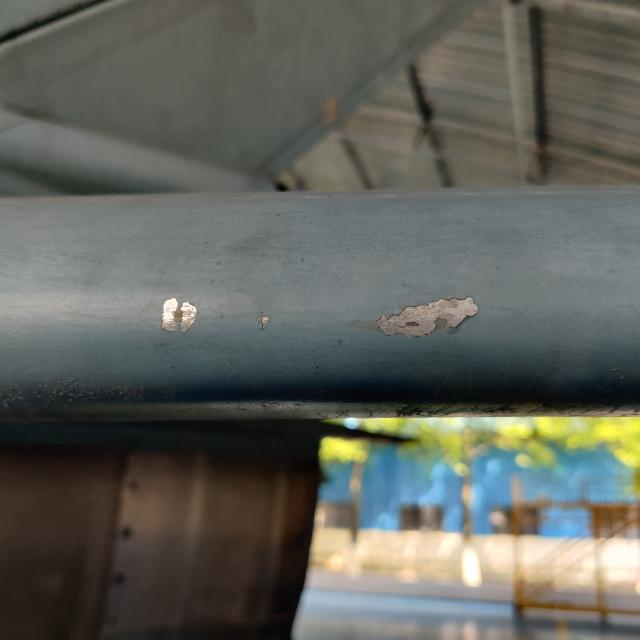paint-off: (358, 264, 488, 362), (145, 281, 211, 350)
